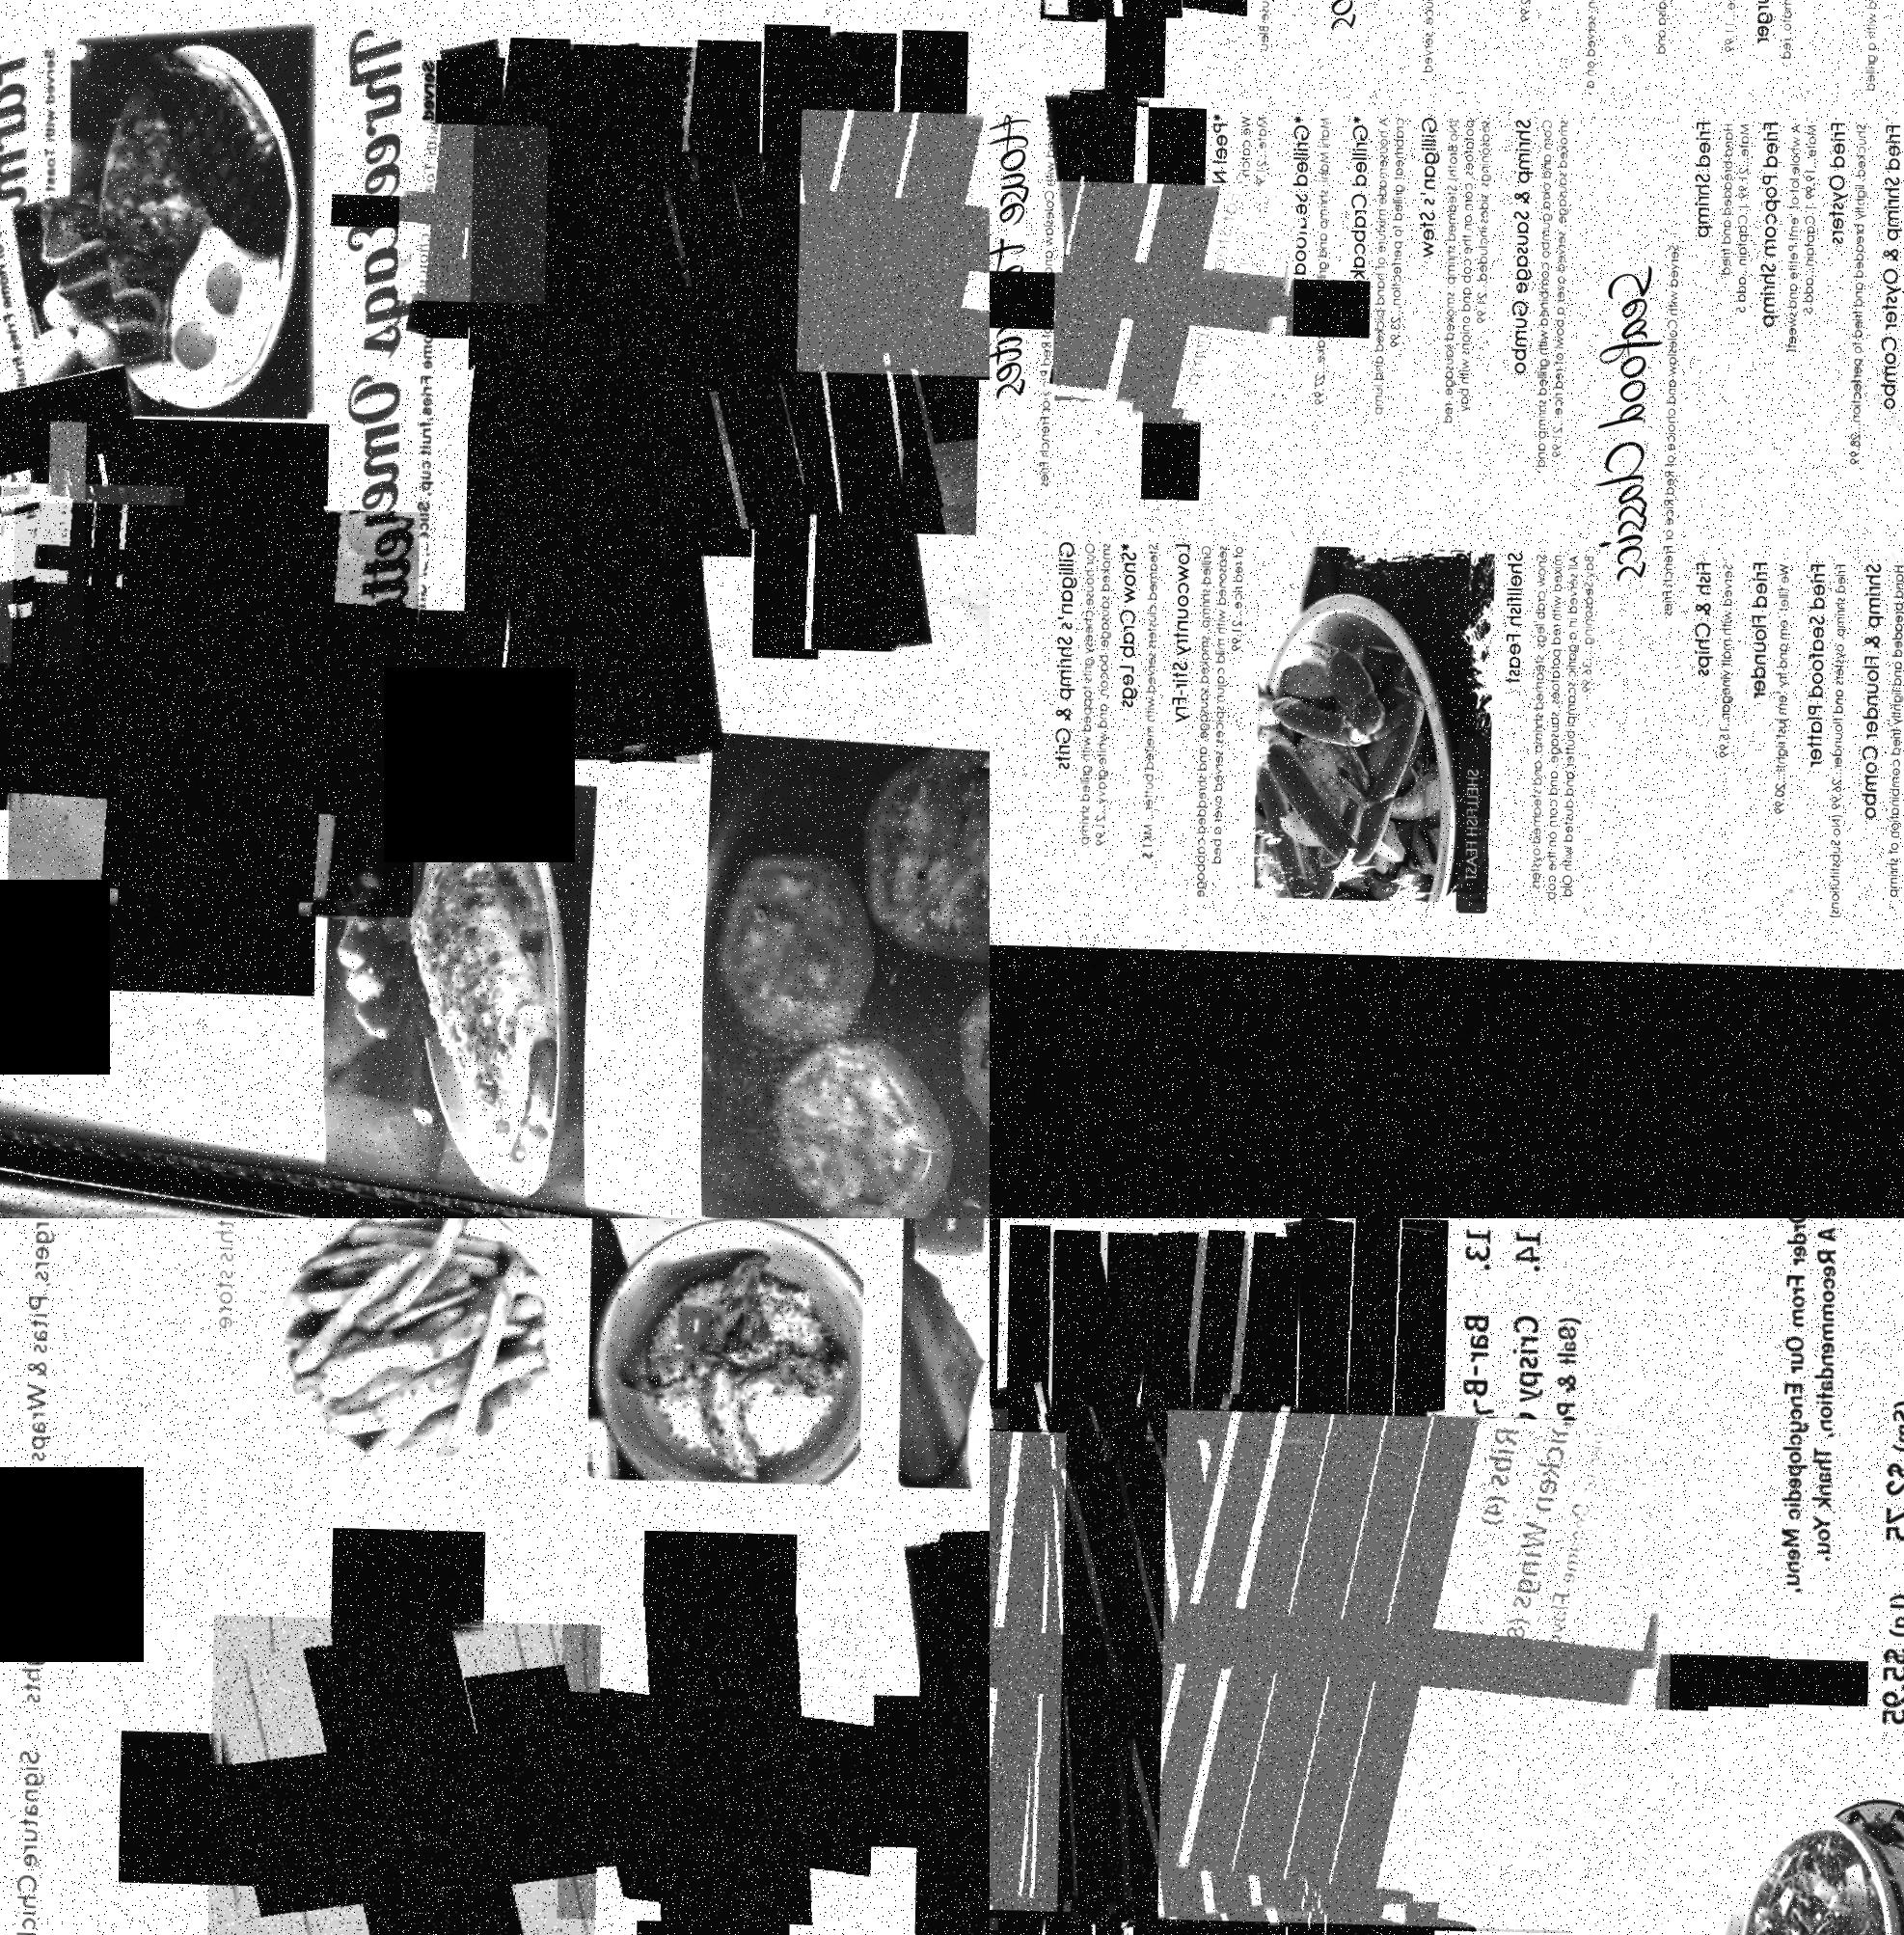Menu-Items: (1060, 1393, 1597, 1933), (1161, 1396, 1691, 1932), (1034, 1426, 1522, 1916), (990, 1417, 1381, 1921), (10, 492, 434, 919), (600, 132, 990, 530), (990, 1414, 1285, 1928), (532, 33, 731, 758), (990, 1391, 1252, 1935), (211, 1604, 615, 1935), (1090, 1227, 1269, 1935), (992, 1224, 1165, 1935), (1301, 1219, 1456, 1935), (563, 1593, 889, 1923), (460, 30, 619, 669), (1158, 1224, 1297, 1935), (0, 204, 188, 704), (577, 136, 882, 443), (990, 1388, 1153, 1935), (1489, 1219, 1609, 1935), (799, 19, 935, 643), (1435, 1219, 1526, 1935), (1057, 173, 1306, 424), (797, 94, 990, 371), (3, 476, 195, 668), (1412, 98, 1513, 460), (399, 113, 586, 302), (1055, 82, 1161, 403), (1499, 106, 1592, 472), (914, 1513, 990, 1935), (1341, 89, 1423, 455), (1208, 91, 1289, 453), (1817, 103, 1890, 483), (1273, 103, 1351, 445), (1803, 539, 1871, 912), (1754, 92, 1833, 375), (1862, 1219, 1904, 1724), (1681, 94, 1773, 317), (1742, 540, 1815, 821), (420, 52, 492, 333), (1859, 549, 1904, 908), (47, 418, 99, 727), (1691, 537, 1751, 764), (1873, 103, 1904, 420), (1826, 0, 1904, 94), (1554, 0, 1629, 92), (1393, 0, 1475, 82)
